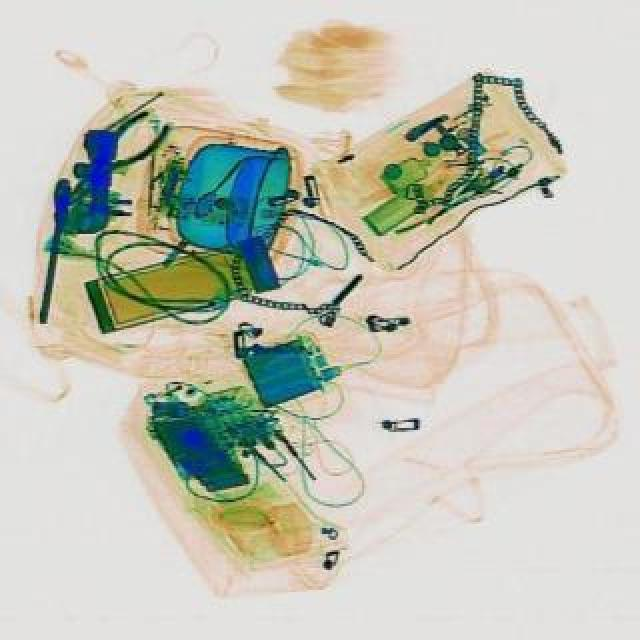wrench: (52, 106, 182, 222)
